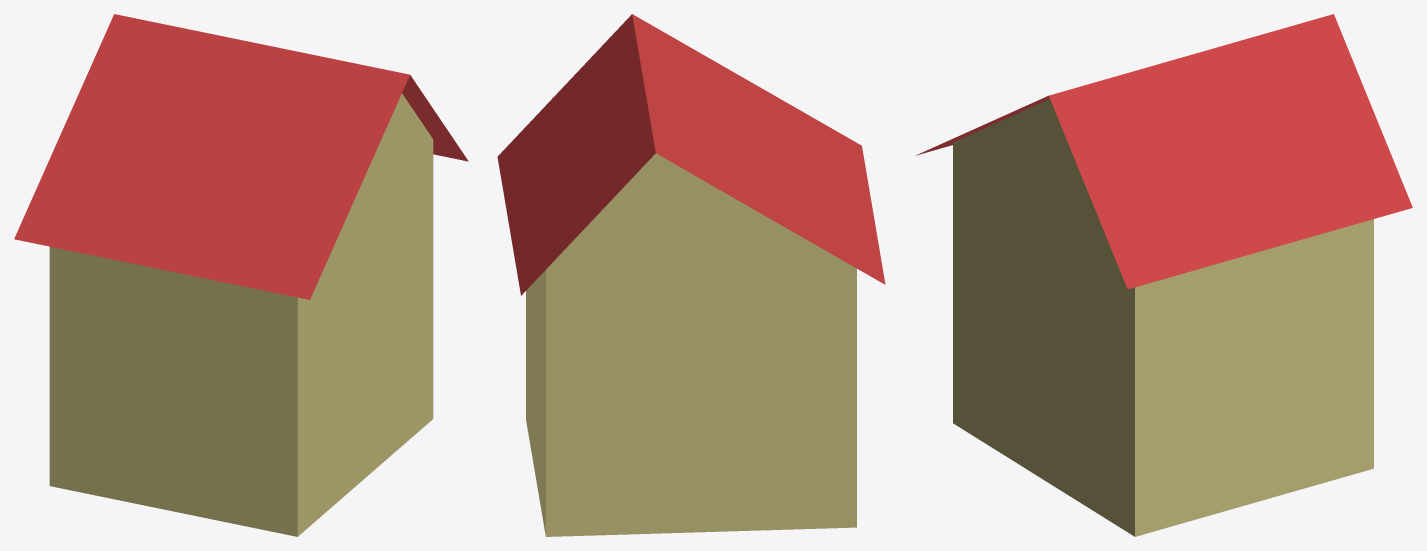
The picture shows the model from 3 angles, left to right: view 1: azimuth 30°, elevation 25°; view 2: azimuth 150°, elevation 25°; view 3: azimuth 270°, elevation 25°; orthographic projection. The views are drawn at different scales.
Size of the model in its own units: 9.11 by 8.93 by 8.07.
